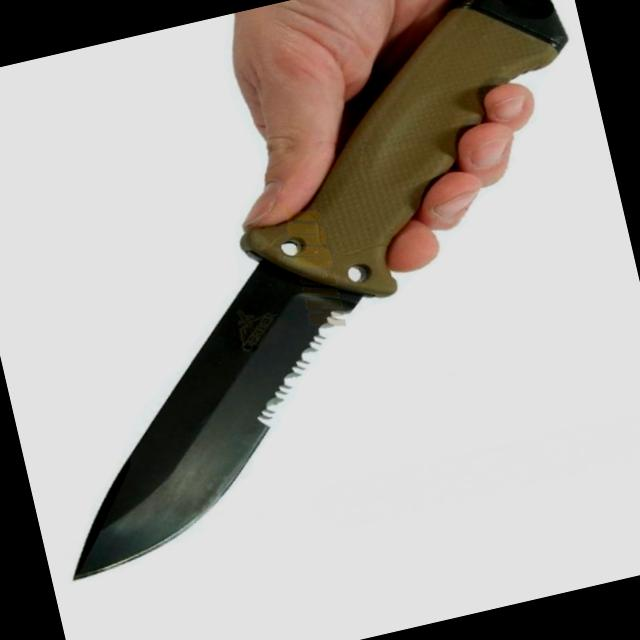knife: (0, 75, 618, 594)
